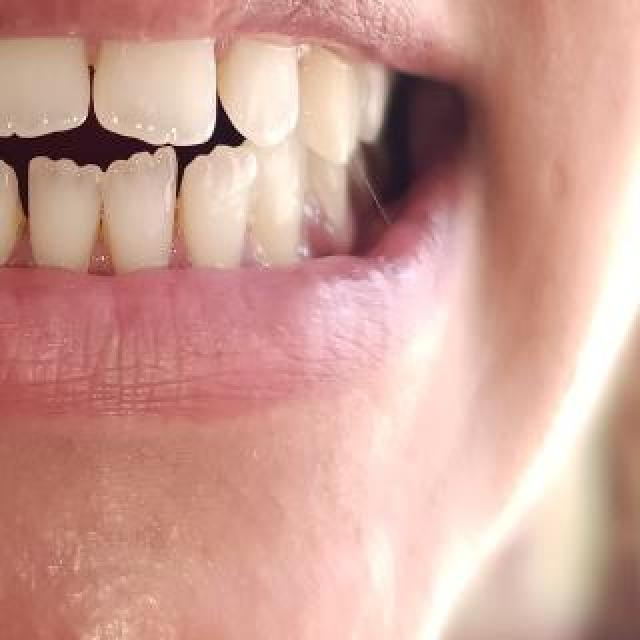maligned: (91, 10, 217, 158), (211, 15, 307, 155), (0, 16, 90, 162), (174, 142, 260, 278), (96, 144, 180, 276), (29, 144, 99, 284), (0, 134, 20, 268)
spacing: (200, 41, 244, 139), (157, 147, 199, 233), (5, 147, 39, 243), (77, 52, 109, 124)
stains: (89, 199, 127, 265), (0, 182, 32, 258), (161, 178, 193, 252)
